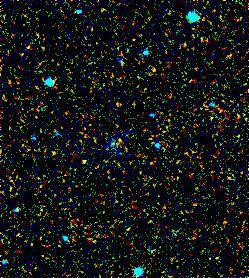star: (68, 145, 98, 175)
